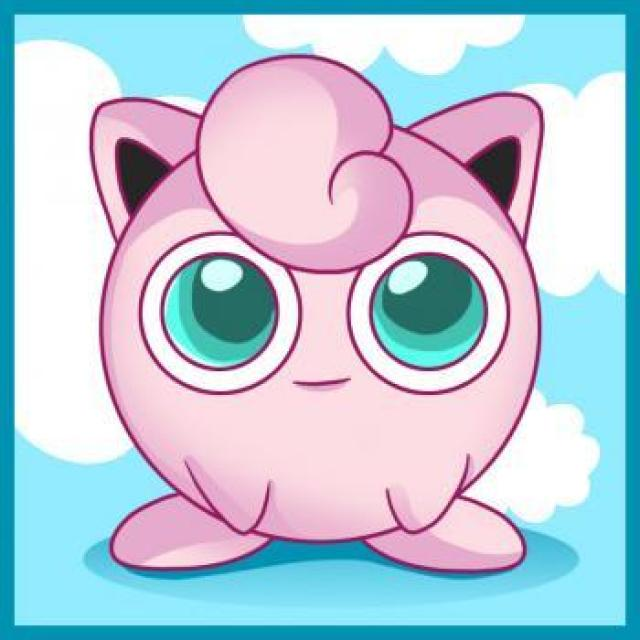Jigglypuff: (100, 62, 542, 573)
